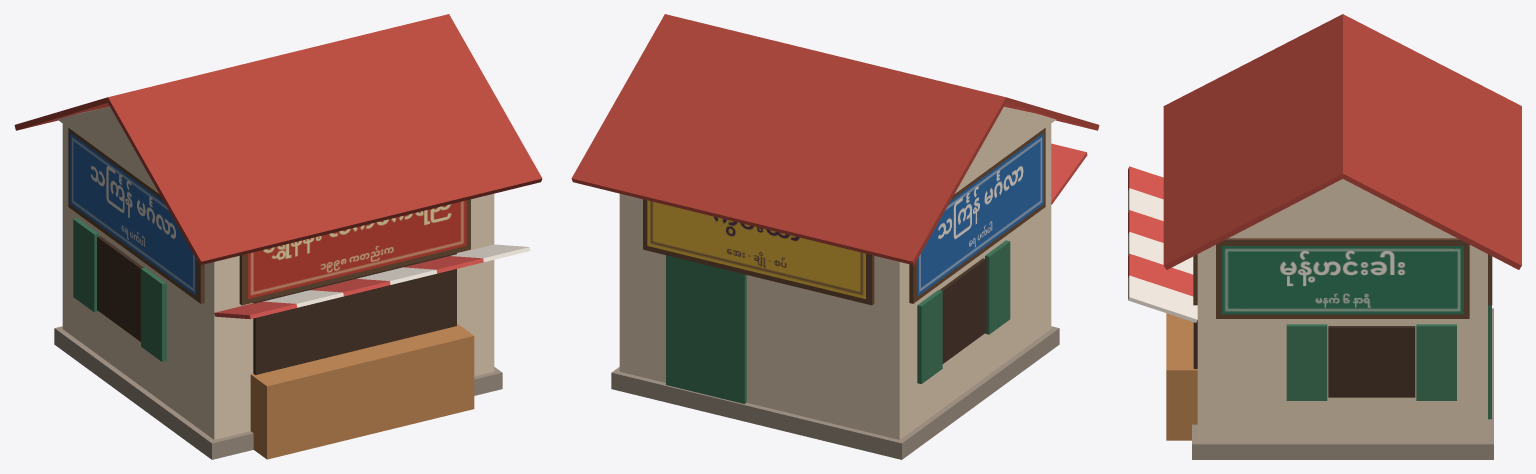
The model's file is shop.glb.
3 renders of one model, left to right at view 1: azimuth 30°, elevation 25°; view 2: azimuth 150°, elevation 25°; view 3: azimuth 270°, elevation 25°, orthographic. The views are drawn at different scales.
Visible parts, largest first — view 1: roof, walls, counter, opening, sign-front, sign-left, plinth, window--1, gables, shutter--1--1, shutter--1-1, frame-front (+7 smaller); view 2: roof, walls, back-door, sign-back, plinth, sign-left, window--1, gables, shutter--1-1, shutter--1--1, frame-back, frame-left (+1 smaller); view 3: roof, walls, sign-right, gables, window-1, plinth, frame-right, counter, shutter-1--1, shutter-1-1, awning-5, awning-4 (+5 smaller).
Boxes of the visible parts, x1,y1,x2,y2 form: roof: (14,14,542,265); walls: (62,124,494,439); counter: (250,324,474,459); opening: (253,253,456,374); sign-front: (248,200,466,298); sign-left: (70,133,196,295); plinth: (54,326,502,459); window--1: (97,236,143,341); gables: (58,107,159,193); shutter--1--1: (141,267,166,361); shutter--1-1: (73,218,98,312); frame-front: (239,199,470,305); roof: (571,14,1099,265); walls: (619,124,1051,439); back-door: (666,255,746,403); sign-back: (647,200,865,298); plinth: (611,326,1059,459); sign-left: (917,133,1043,295); window--1: (940,258,986,363); gables: (954,107,1055,193); shutter--1-1: (917,290,942,383); shutter--1--1: (985,240,1010,334); frame-back: (643,199,874,305); frame-left: (909,128,1045,303); roof: (1163,14,1521,269); walls: (1197,245,1487,441); sign-right: (1222,246,1463,314); gables: (1228,179,1456,238); window-1: (1328,326,1415,397); plinth: (1192,308,1493,459); frame-right: (1216,238,1469,318); counter: (1166,313,1197,440); shutter-1--1: (1286,324,1327,400); shutter-1-1: (1416,324,1456,400); awning-5: (1128,275,1197,322); awning-4: (1128,253,1193,296).
Size of the model in its own units: 3.9 by 3.4 by 4.07.
Materials: 13 (4 with a texture image).
